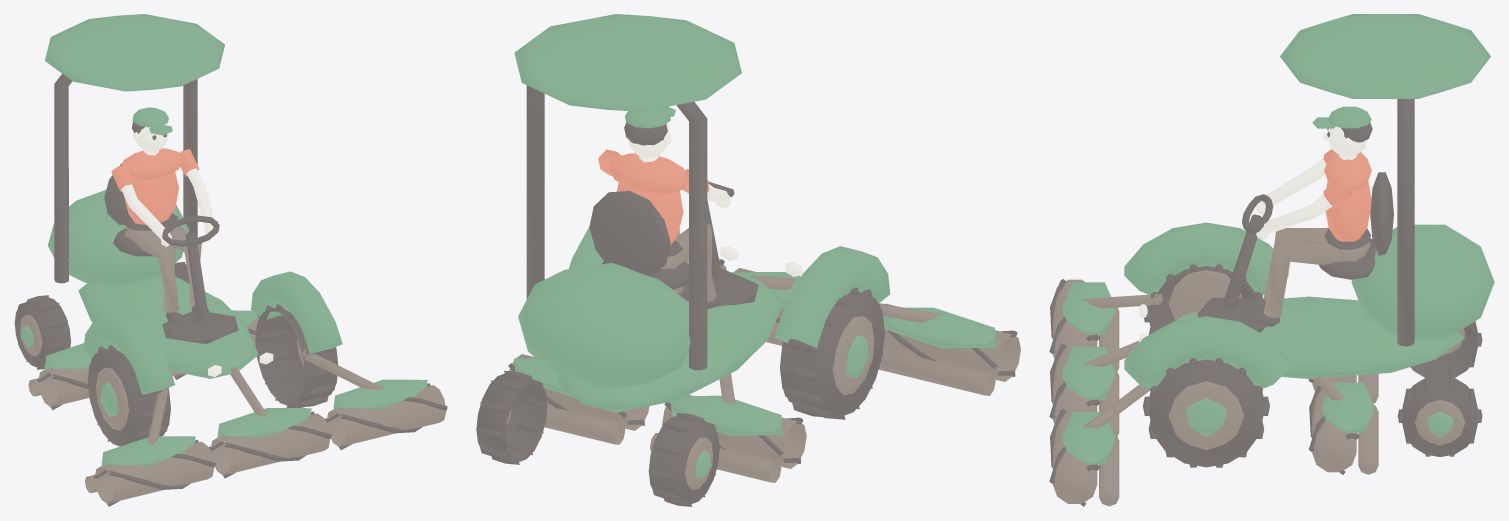
File: Blender_Mower_1.glb
3 views of the same model, side by side, from view 1: azimuth 30°, elevation 25°; view 2: azimuth 150°, elevation 25°; view 3: azimuth 270°, elevation 25° (orthographic). The views are drawn at different scales.
Parts seen in each view (by area): view 1: Blender_Mower_1; view 2: Blender_Mower_1; view 3: Blender_Mower_1.
Part boxes in pixels (x1,y1,x2,y2): Blender_Mower_1: [14, 14, 447, 506]; Blender_Mower_1: [476, 14, 1020, 506]; Blender_Mower_1: [1049, 14, 1494, 506].
Size of the model in its own units: 2.6 by 2.38 by 2.61.
